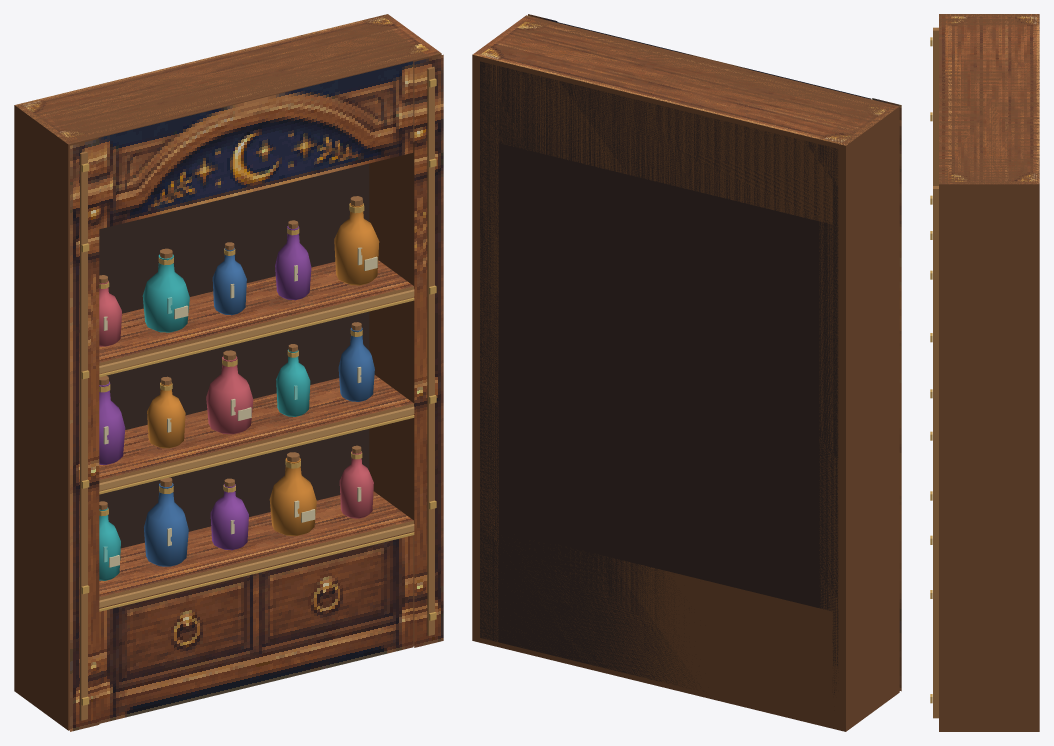
The model's file is potion-cabinet.glb.
3 renders of one model, left to right at view 1: azimuth 30°, elevation 25°; view 2: azimuth 150°, elevation 25°; view 3: azimuth 270°, elevation 25°, orthographic. The views are drawn at different scales.
Parts seen in each view (by area): view 1: Potion Cabinet with 3D Wares; view 2: Potion Cabinet with 3D Wares; view 3: Potion Cabinet with 3D Wares.
Boxes of the visible parts, x1,y1,x2,y2 form: Potion Cabinet with 3D Wares: [14, 14, 443, 731]; Potion Cabinet with 3D Wares: [472, 14, 901, 731]; Potion Cabinet with 3D Wares: [930, 14, 1039, 731].
Bounding box in the file's own units: 2 × 3 × 0.543.
14 materials, 1 textured.
